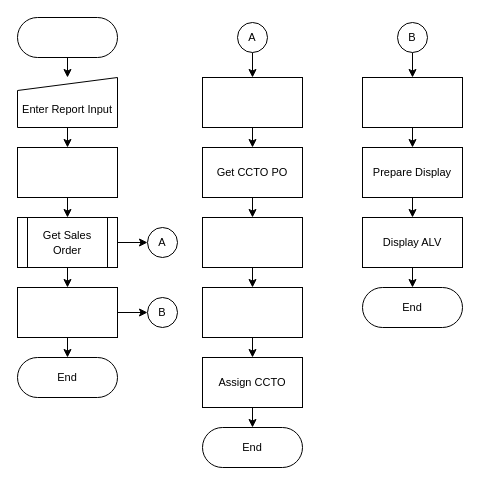
Some shapes in this 480 by 485 pixel diagram are drawn without their labels. The shapes that lost their labels are listed below. From the top down, each one's centre as x and y in pixels, then its label:
At pixel 67 37: "Start".
At pixel 252 102: "Get Basic Data".
At pixel 412 102: "Get Output".
At pixel 67 172: "Get Parameters".
At pixel 252 242: "Build Output".
At pixel 67 312: "Set Display".
At pixel 252 312: "Sort Basic Data".
